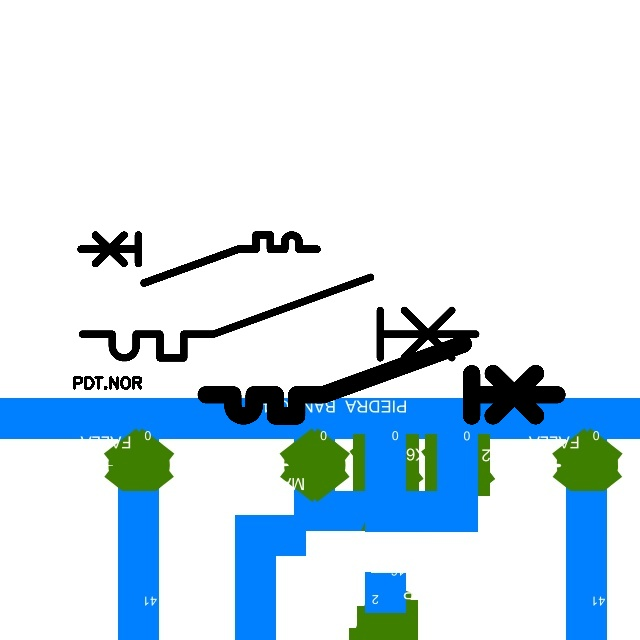interruptor_termomagnetico: (72, 267, 485, 368), (197, 335, 566, 425), (75, 229, 323, 289)
